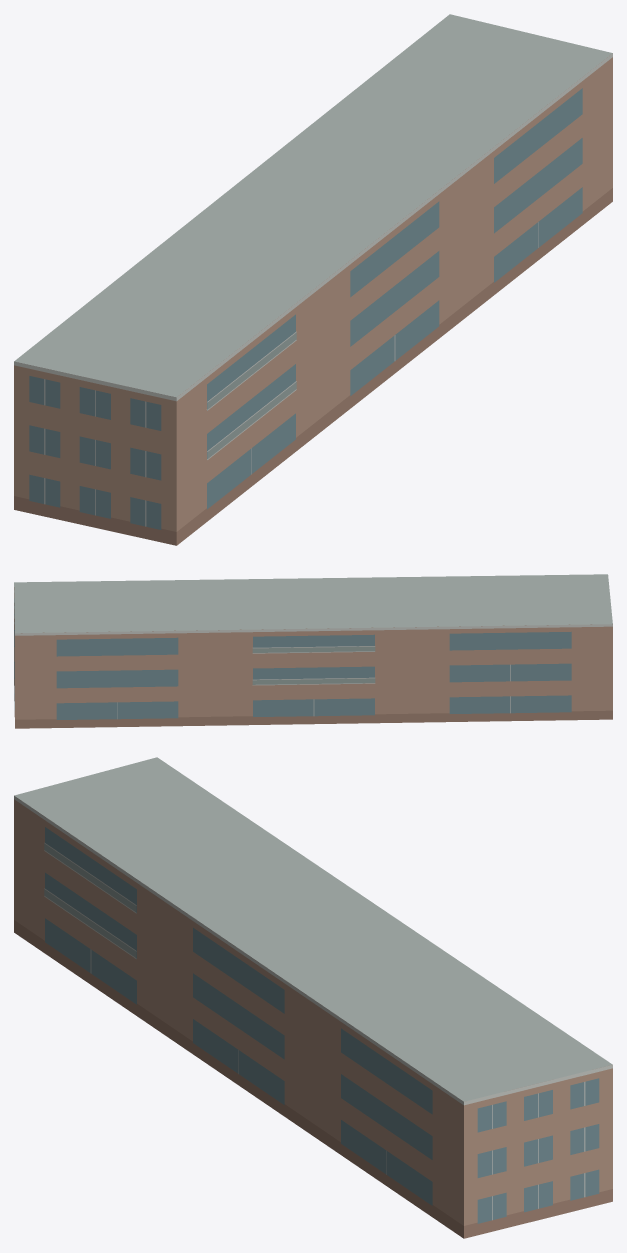
File: survey-upis-32752023.glb
3 views of the same model, one above another, from view 1: azimuth 30°, elevation 25°; view 2: azimuth 150°, elevation 25°; view 3: azimuth 270°, elevation 25° (orthographic). The views are drawn at different scales.
Parts seen in each view (by area): view 1: survey-upis-32752023.tmp; view 2: survey-upis-32752023.tmp; view 3: survey-upis-32752023.tmp.
Boxes of the visible parts, <box> form: survey-upis-32752023.tmp: <box>14,14,612,545</box>; survey-upis-32752023.tmp: <box>14,574,612,728</box>; survey-upis-32752023.tmp: <box>14,757,612,1238</box>.
Bounding box in the file's own units: 49.37 × 9.15 × 36.26.
